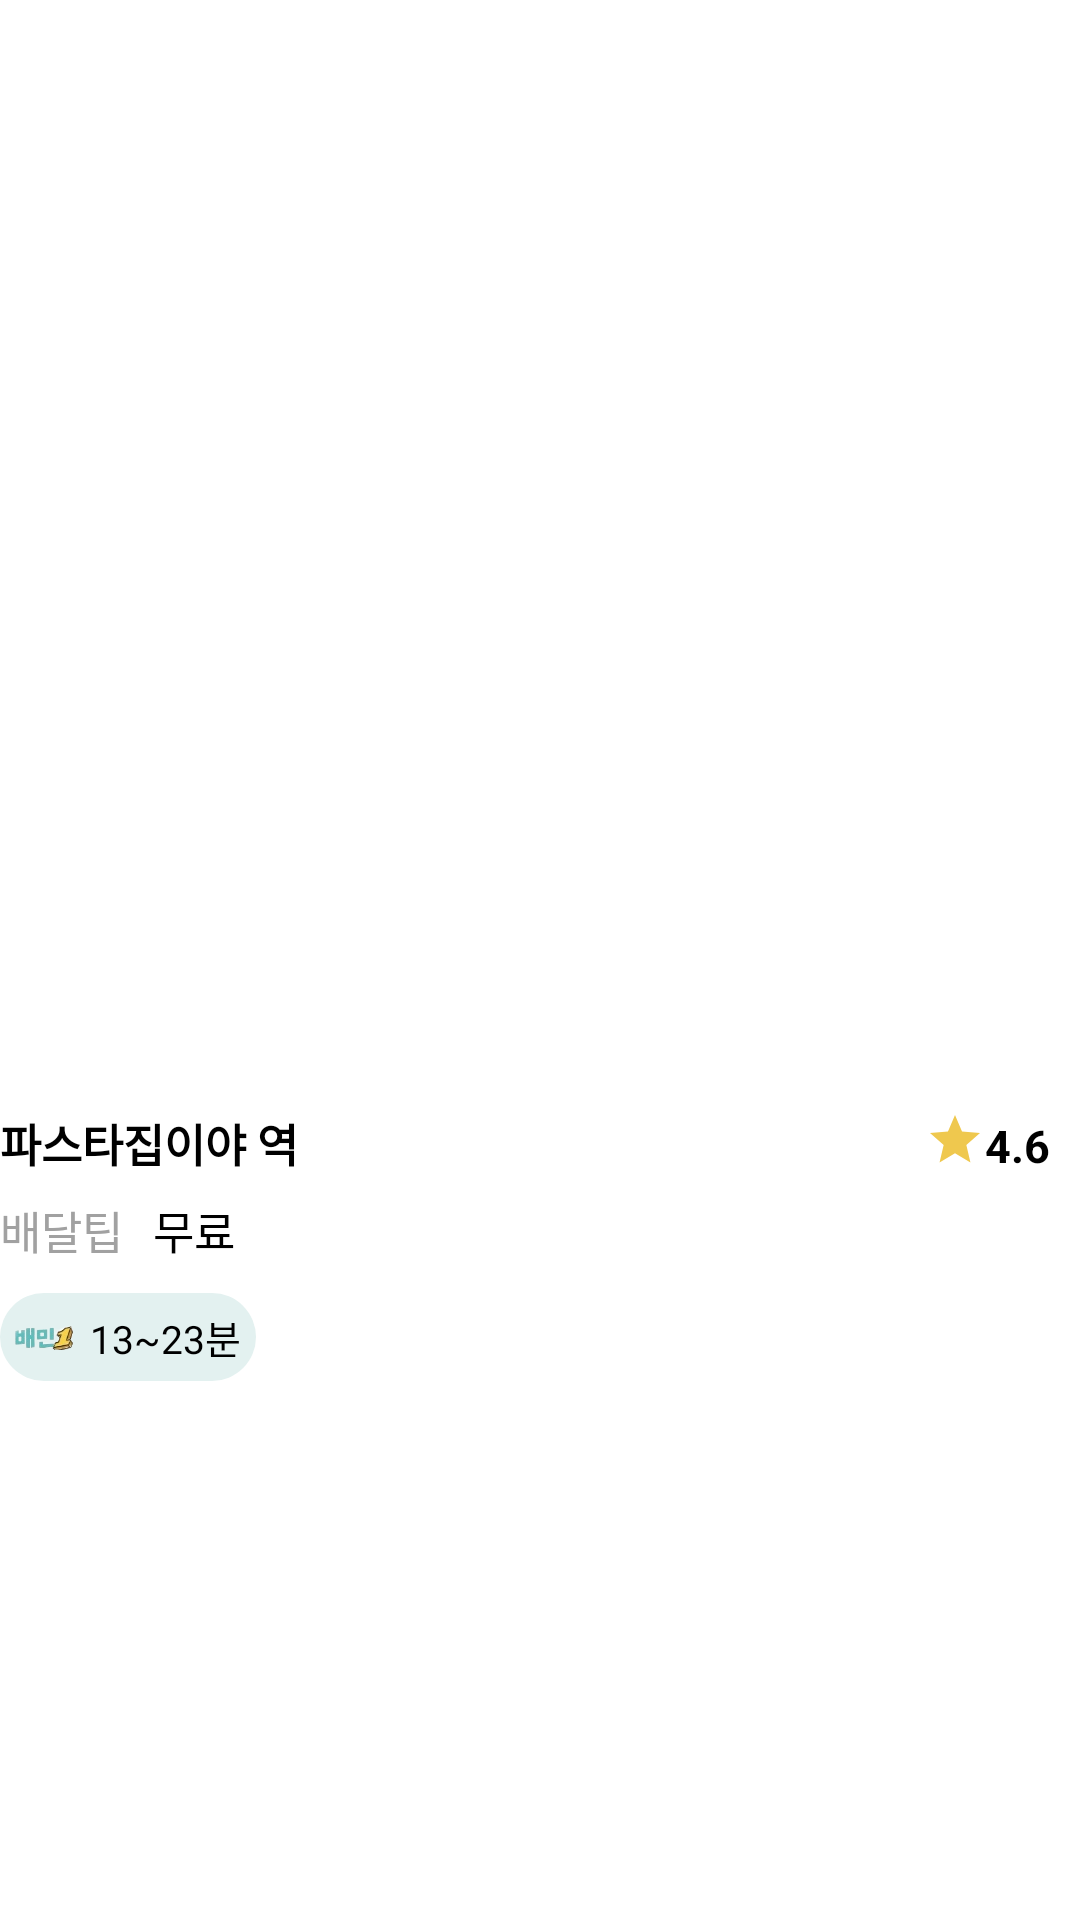

Screen size 1080x1920. Icon name, then its box in pixels as (x1, y1, x2, y2):
star: (930, 1115, 980, 1163)
